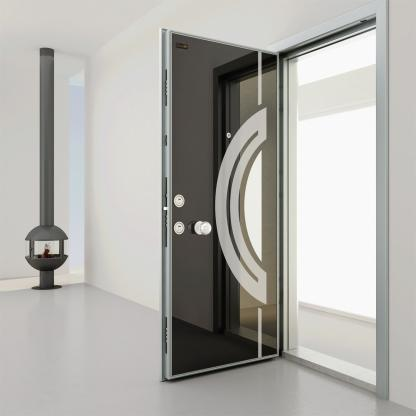door: (160, 29, 281, 360)
